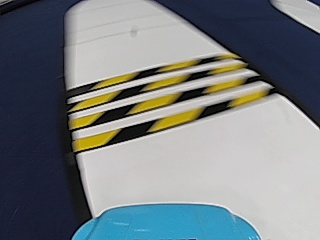bump: (54, 53, 280, 146)
